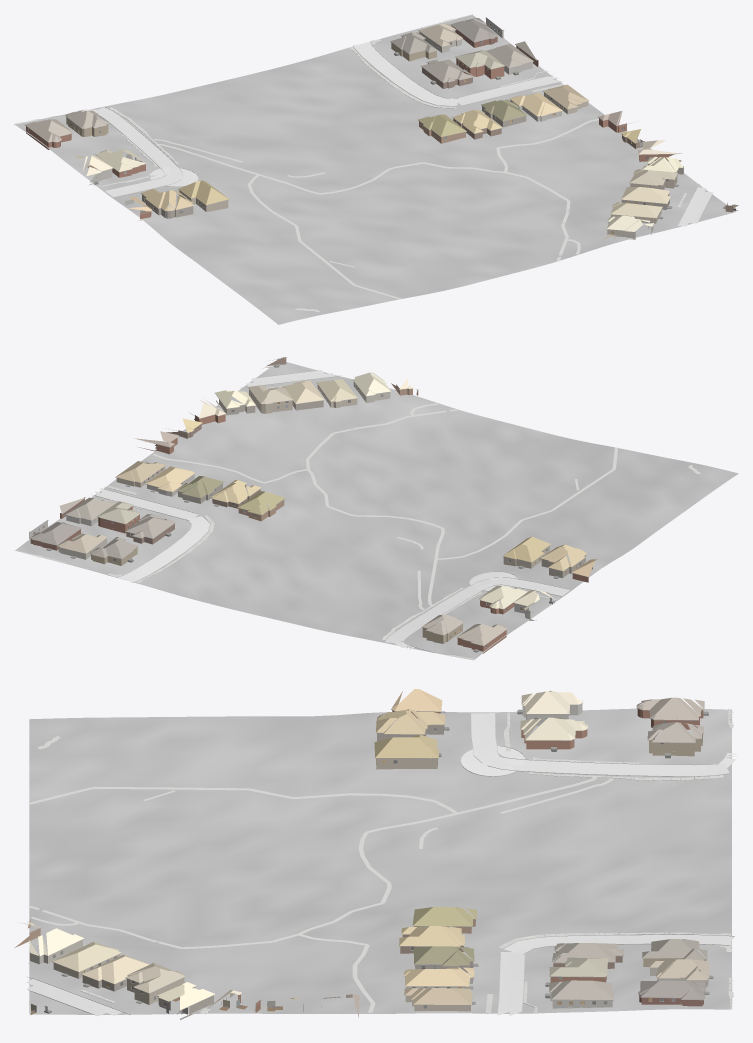
The picture shows the model from 3 angles, top to bottom: view 1: azimuth 30°, elevation 25°; view 2: azimuth 150°, elevation 25°; view 3: azimuth 270°, elevation 25°; orthographic projection. The views are drawn at different scales.
Parts seen in each view (by area): view 1: ground, roof, concrete, wall, walk, detail, curb, wall_stucco, wall_stone; view 2: ground, roof, wall, concrete, walk, detail, curb, wall_stucco, wall_stone; view 3: ground, roof, concrete, walk, wall, detail, curb, wall_stucco, wall_stone.
Part boxes in pixels (<box>): ground: <box>14,15,736,324</box>; roof: <box>25,18,683,239</box>; concrete: <box>74,42,713,226</box>; wall: <box>26,25,732,220</box>; walk: <box>14,14,686,312</box>; detail: <box>25,18,727,239</box>; curb: <box>14,15,712,227</box>; wall_stucco: <box>419,30,661,239</box>; wall_stone: <box>88,17,561,185</box>; ground: <box>15,362,738,660</box>; roof: <box>30,372,596,645</box>; wall: <box>30,357,588,653</box>; concrete: <box>95,370,569,649</box>; walk: <box>14,385,700,660</box>; detail: <box>29,358,588,652</box>; curb: <box>86,370,570,652</box>; wall_stucco: <box>58,382,390,559</box>; wall_stone: <box>29,474,536,620</box>; ground: <box>29,708,731,1014</box>; roof: <box>20,689,709,1017</box>; concrete: <box>26,713,737,1016</box>; walk: <box>28,708,733,1014</box>; wall: <box>15,709,706,1019</box>; detail: <box>28,703,713,1013</box>; curb: <box>27,713,734,1015</box>; wall_stucco: <box>28,940,707,1011</box>; wall_stone: <box>405,701,612,1008</box>.
Size of the model in its own units: 268 by 16.27 by 258.
